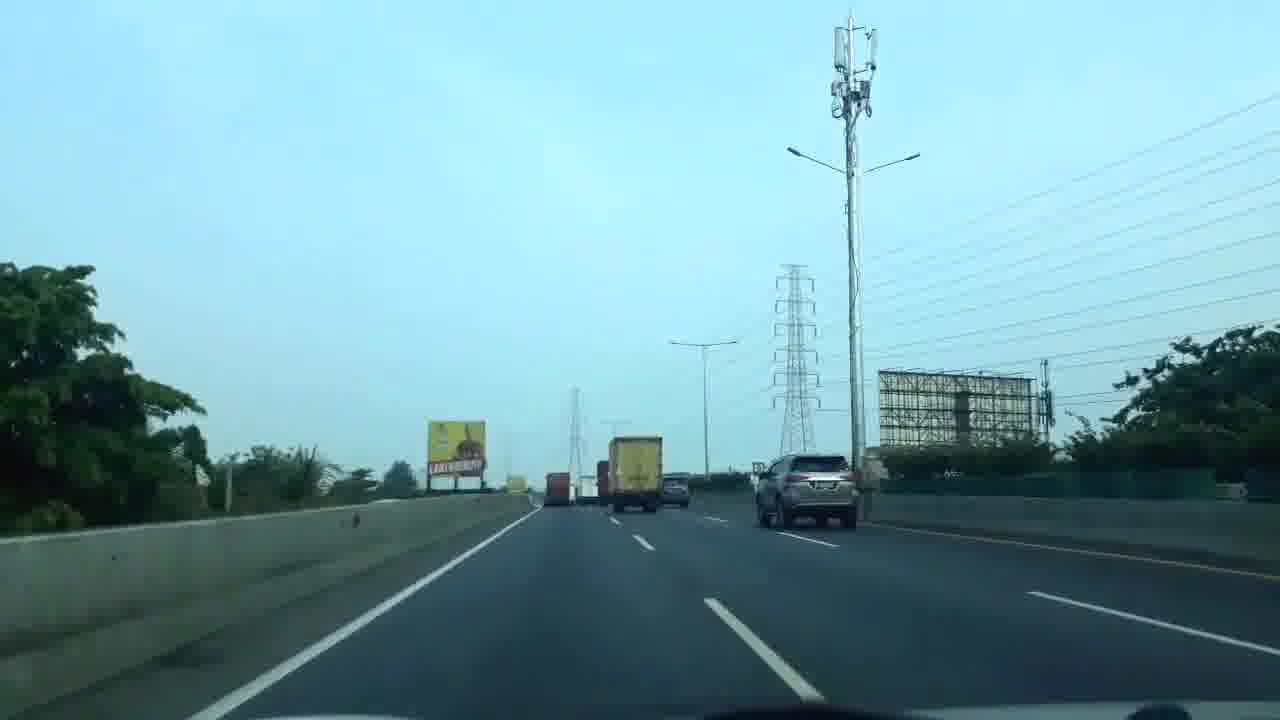plate_positive: (814, 481, 835, 489)
